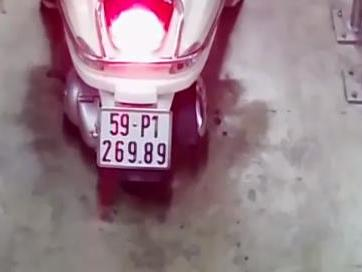num_plate: (98, 107, 171, 171)
